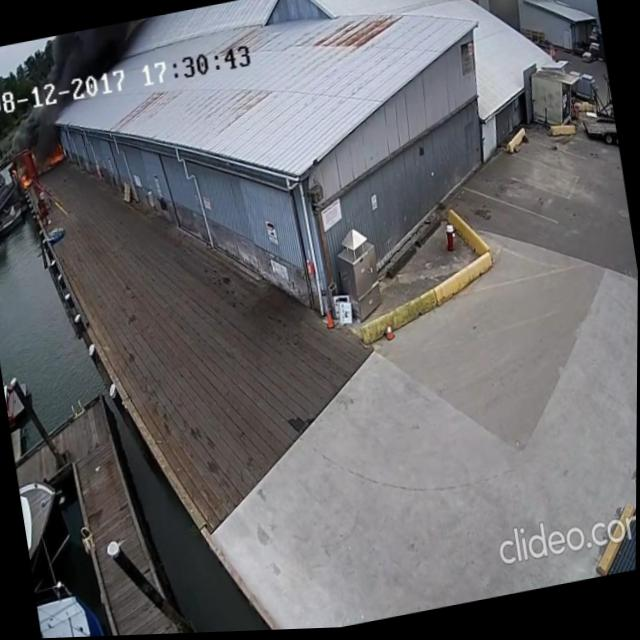fire: (42, 144, 68, 171), (19, 172, 35, 191)
